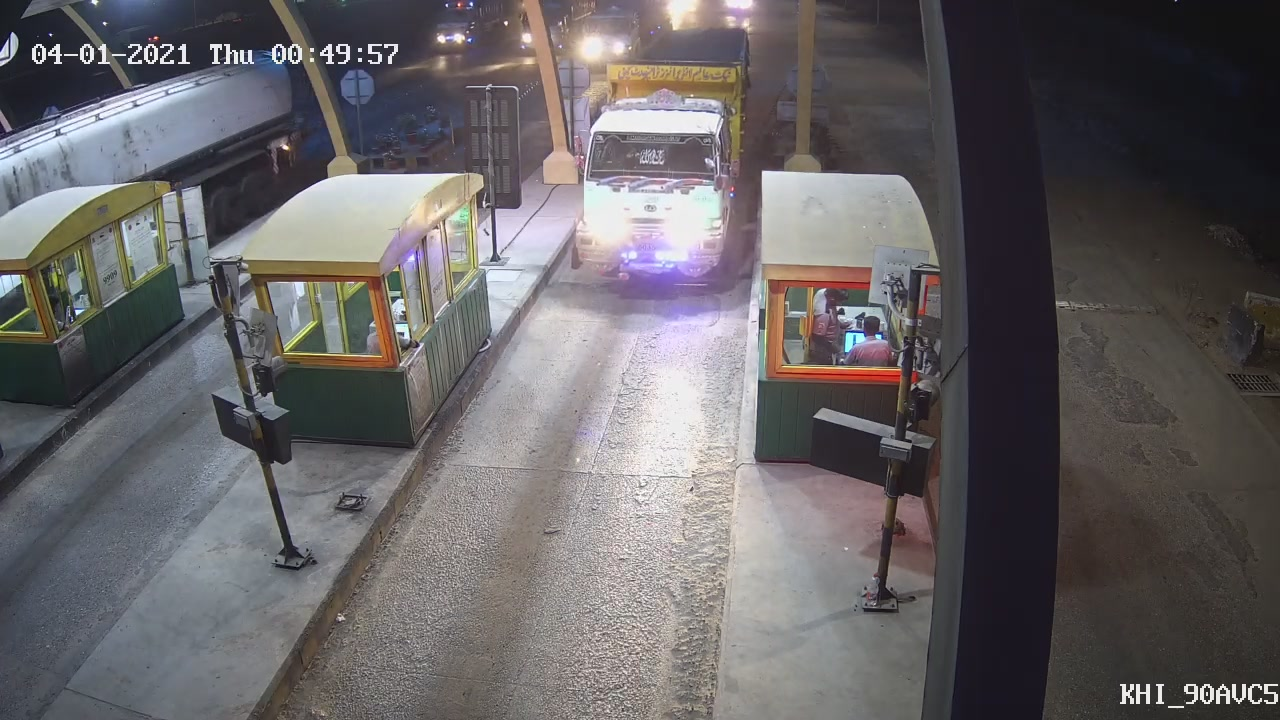F5: (556, 57, 745, 301)
